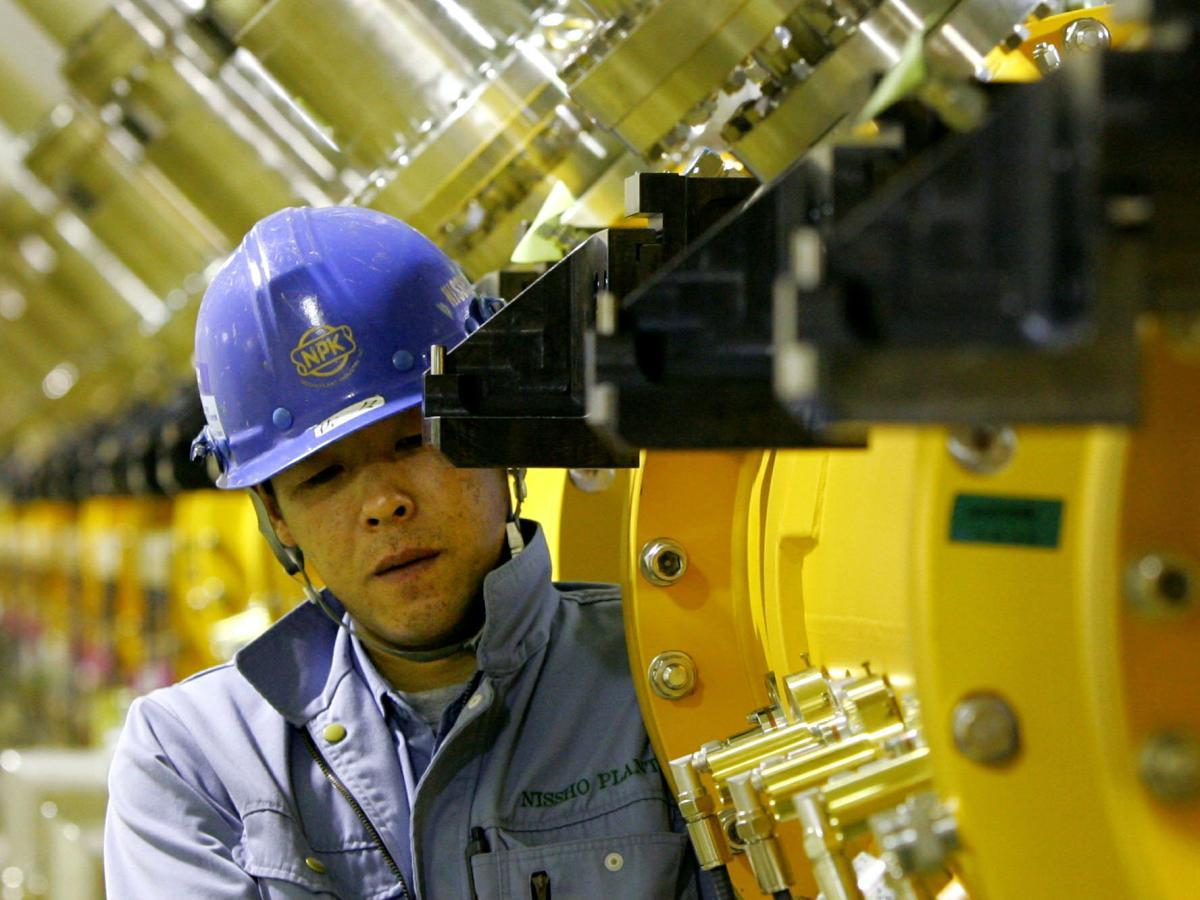helmet: (193, 201, 498, 497)
